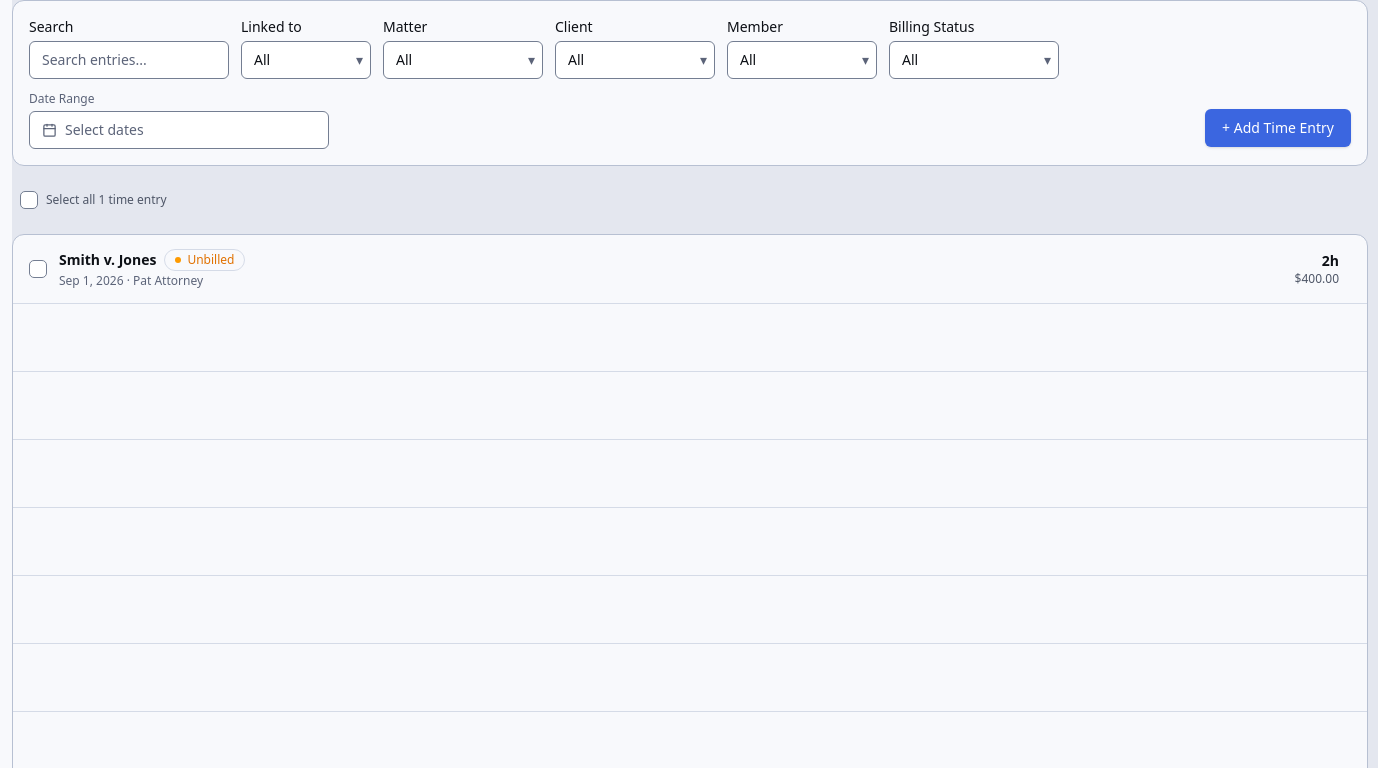
Test case: billing actions need billing.manageInvoices › offers neither Bill now nor the batch Bill to a viewer who can manage time entries but not invoices
Expected: the button "+ Add Time Entry" is shown, [1205,109,1351,147]
Click the checkbox named "Select row" at point(38, 269), box [29,260,47,278]
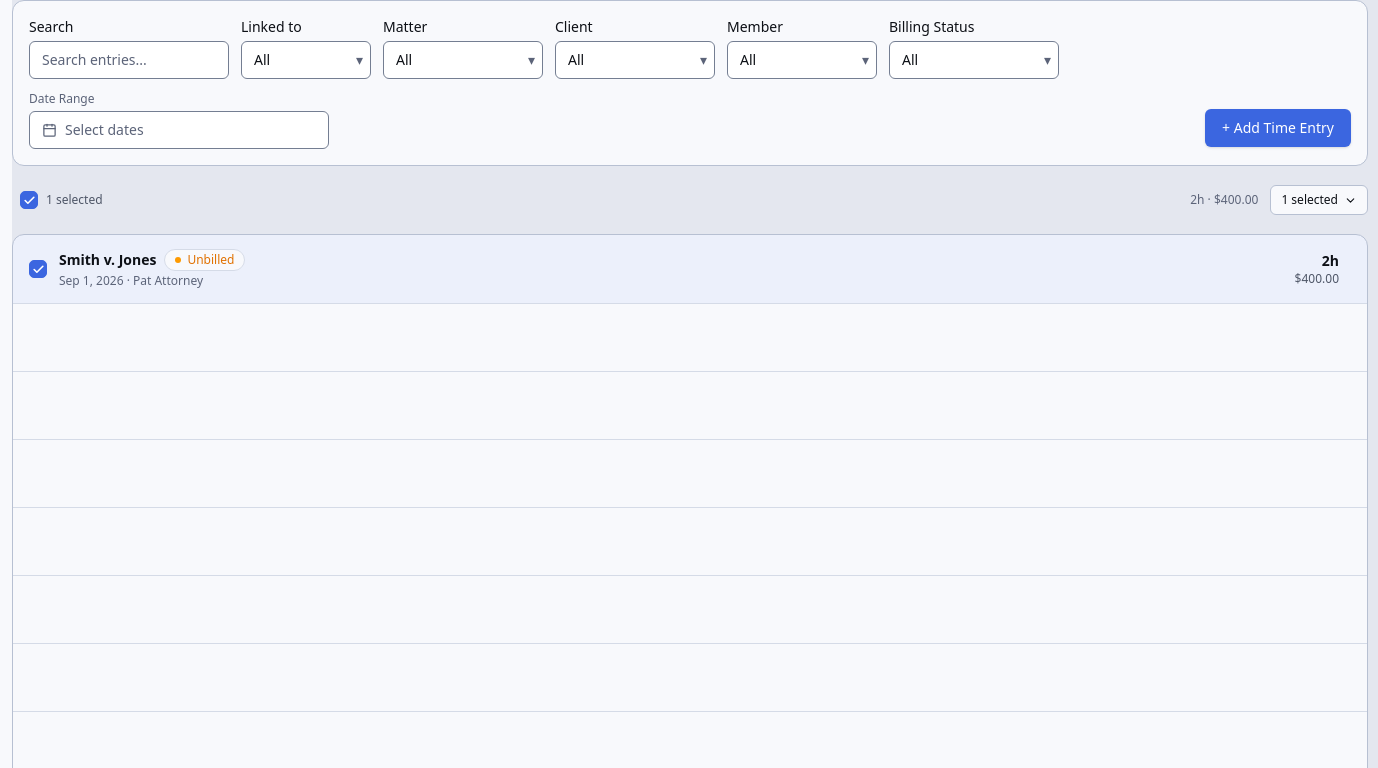
Result: the 1st text "1 selected" is shown at [46,192,103,208]
